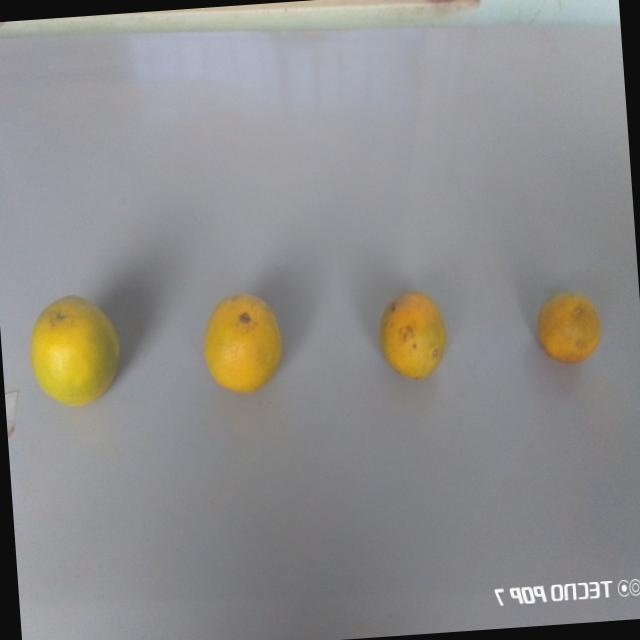agrume: (17, 282, 127, 414), (193, 282, 295, 403), (368, 278, 457, 398), (531, 277, 612, 381)
